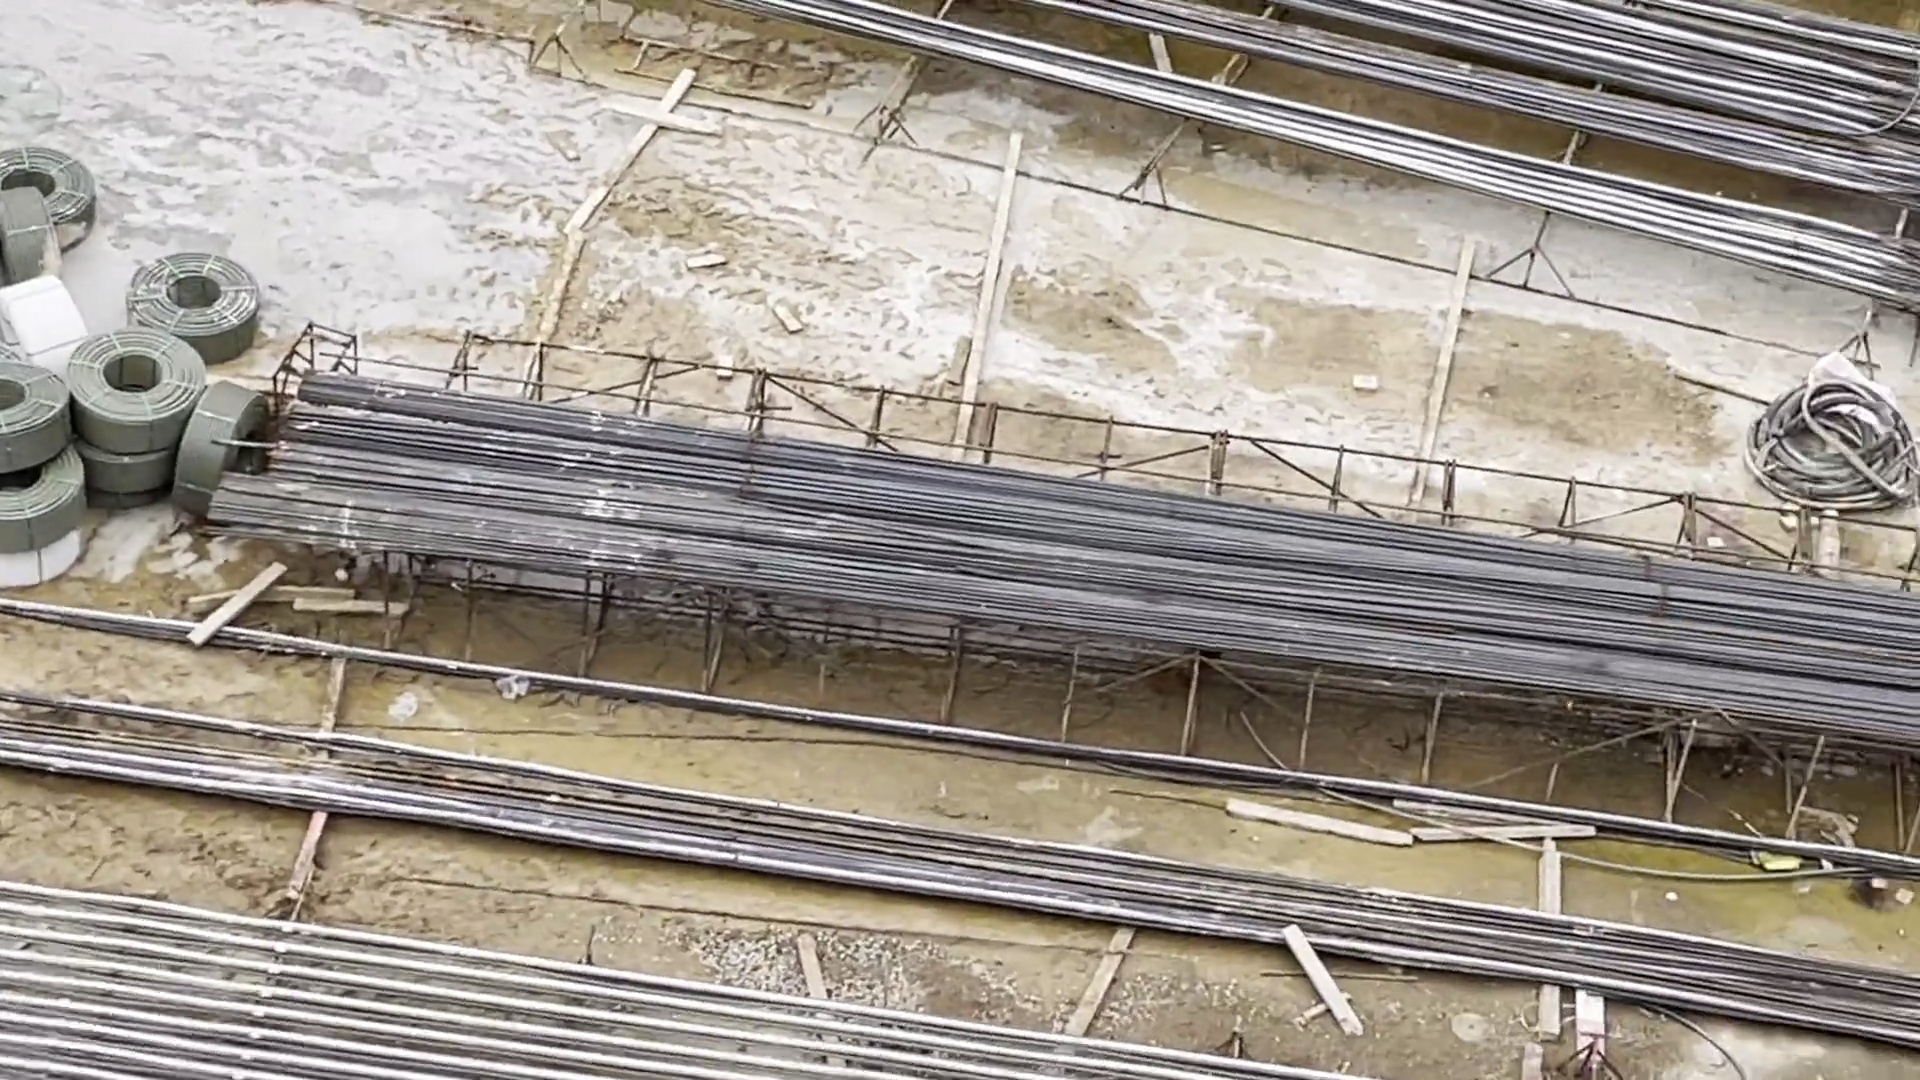rebar: (752, 1, 1920, 309), (191, 353, 1124, 616), (1010, 485, 1920, 727)
